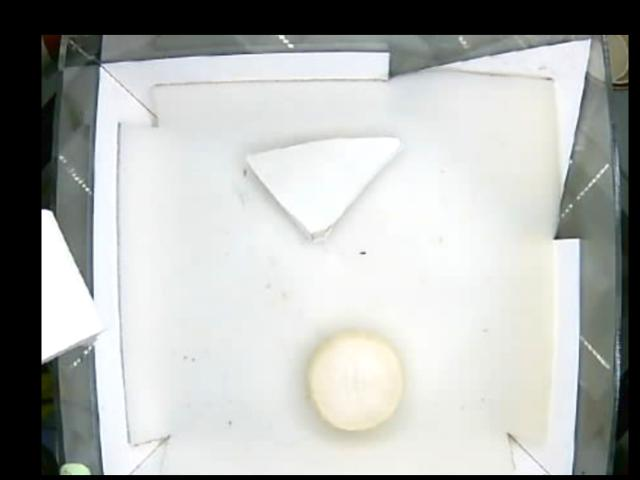China: (244, 136, 400, 241)
Mooli: (307, 328, 403, 429)
